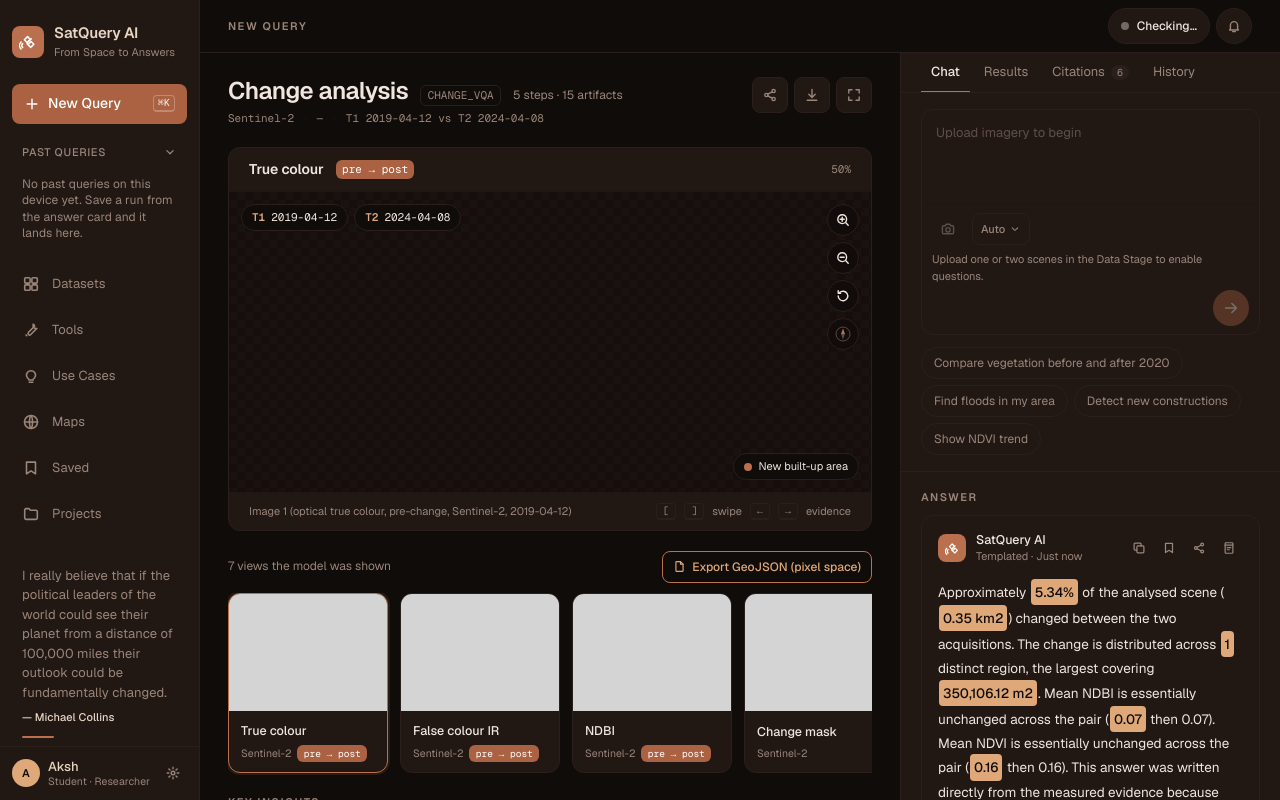
Test case: citation → KPI → viewer › lights the matching KPI card and remembers the step for the pipeline
The width and height of the screenshot is (1280, 800).
Click the button "5.34%" at (1054, 592), box [1031, 578, 1078, 605]
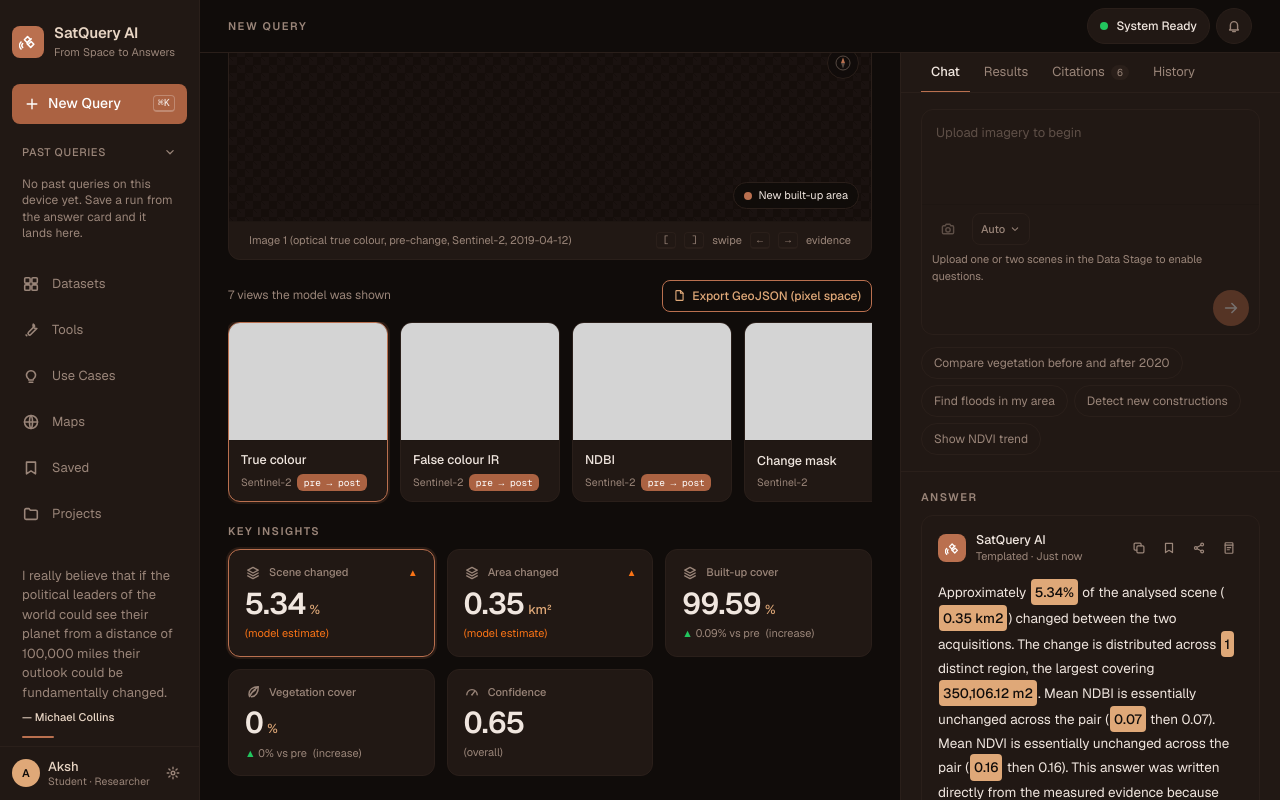
Expected: the list item "Scene changed ▲ 5.34 % (model estimate)" is shown, [228, 549, 435, 657]
